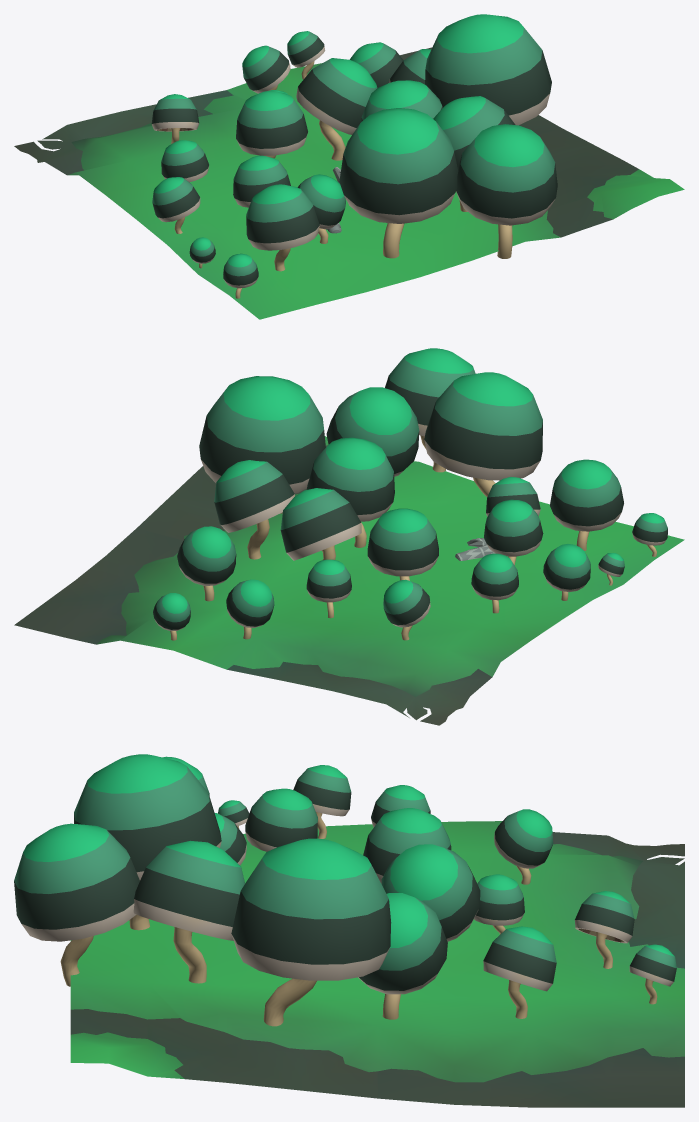
The model's file is LevelB2.fbx.
The picture shows the model from 3 angles, top to bottom: view 1: azimuth 30°, elevation 25°; view 2: azimuth 150°, elevation 25°; view 3: azimuth 270°, elevation 25°; orthographic projection. The views are drawn at different scales.
Parts seen in each view (by area): view 1: GroundB2, MushroomB.001, MushroomB.007, MushroomB, MushroomA.012, MushroomB.013, MushroomB.019, MushroomA.004, MushroomB.002, MushroomB.014, MushroomA.010, MushroomB.016 (+8 smaller); view 2: GroundB2, MushroomB.001, MushroomB.007, MushroomB.002, MushroomA.004, MushroomA.005, MushroomB.013, MushroomA.012, MushroomB.019, MushroomB, MushroomA.016, MushroomB.014 (+8 smaller); view 3: GroundB2, MushroomB.007, MushroomB, MushroomB.001, MushroomA.004, MushroomA.005, MushroomA.012, MushroomA.016, MushroomB.014, MushroomB.019, MushroomA.013, MushroomA.015 (+6 smaller).
Boxes of the visible parts, box(x1,y1,x2,y2) form: GroundB2: box(14, 47, 684, 319); MushroomB.001: box(339, 108, 458, 258); MushroomB.007: box(425, 14, 551, 125); MushroomB: box(456, 124, 557, 258); MushroomA.012: box(296, 58, 377, 160); MushroomB.013: box(246, 184, 319, 271); MushroomB.019: box(236, 91, 307, 158); MushroomA.004: box(433, 96, 515, 211); MushroomB.002: box(361, 80, 442, 121); MushroomB.014: box(233, 155, 290, 207); MushroomA.010: box(297, 174, 345, 243); MushroomB.016: box(152, 177, 200, 233); GroundB2: box(14, 436, 684, 725); MushroomB.001: box(424, 372, 542, 496); MushroomB.007: box(199, 376, 325, 513); MushroomB.002: box(306, 437, 394, 547); MushroomA.004: box(326, 387, 419, 476); MushroomA.005: box(214, 460, 294, 559); MushroomB.013: box(550, 459, 623, 550); MushroomA.012: box(280, 488, 361, 560); MushroomB.019: box(367, 508, 438, 580); MushroomB: box(385, 348, 475, 472); MushroomA.016: box(177, 526, 236, 601); MushroomB.014: box(484, 499, 543, 565); GroundB2: box(70, 821, 684, 1107); MushroomB.007: box(231, 838, 391, 1026); MushroomB: box(14, 823, 139, 986); MushroomB.001: box(74, 754, 221, 930); MushroomA.004: box(133, 840, 244, 983); MushroomA.005: box(358, 893, 447, 1019); MushroomA.012: box(381, 844, 480, 941); MushroomA.016: box(483, 926, 556, 1018); MushroomB.014: box(245, 788, 317, 851); MushroomB.019: box(363, 808, 451, 883); MushroomA.013: box(494, 809, 553, 884); MushroomA.015: box(574, 891, 634, 968).
Bounding box in the file's own units: 9210 × 3253 × 9895.
